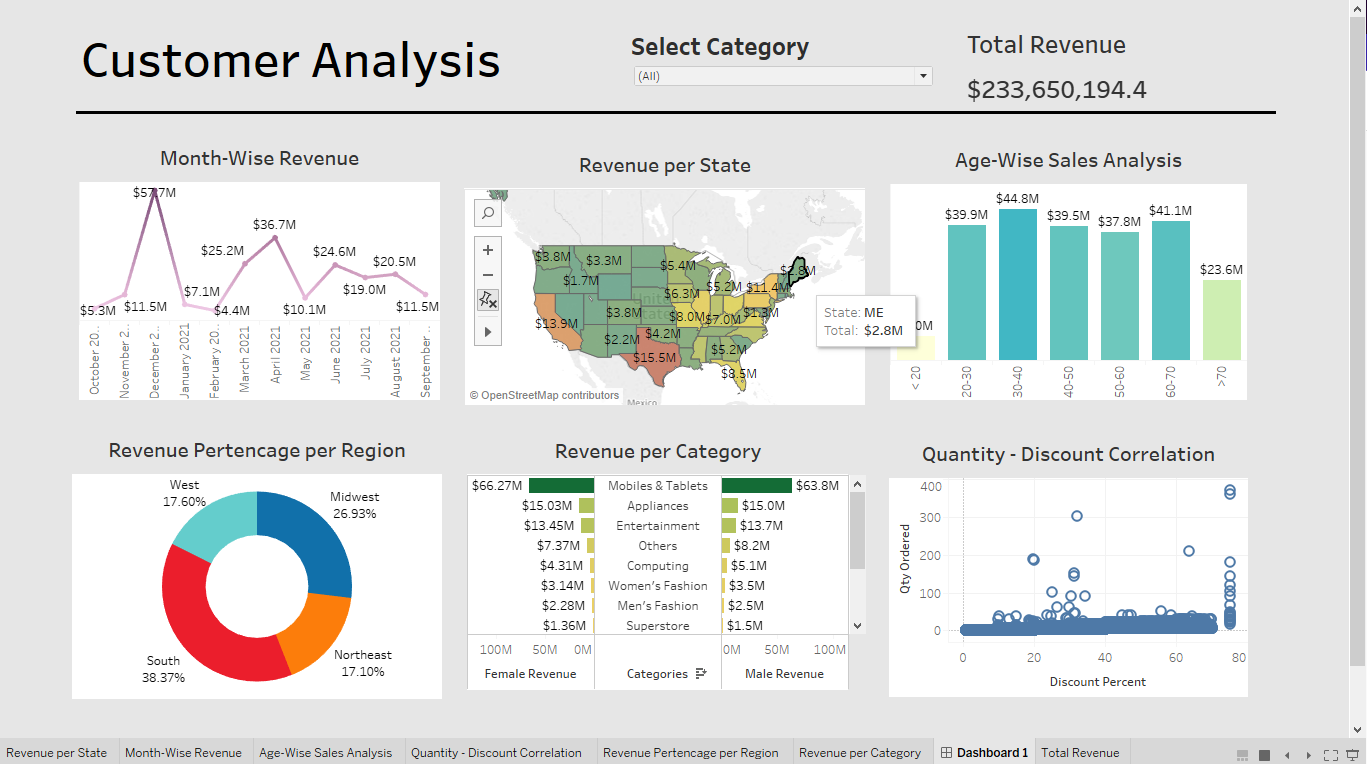

Layout of this report page (visuals, bound fields, positions):
{"tool":"tableau","page":{"name":"Dashboard 1","canvas":[1200,800],"ordinal":0},"visuals":[{"type":"text","box":[4,20,557,75]},{"type":"worksheet","title":"Total Revenue","mark":"Automatic","box":[889,23,246,83]},{"type":"filter","title":"Revenue per Category","param":"[federated.0hiqf9a1q16y5f18m1fyc1xziid1].[none:category:nk]","box":[557,29,305,63]},{"type":"blank","box":[2,111,1200,3]},{"type":"worksheet","title":"Month-Wise Revenue","mark":"Automatic","rows":["total"],"cols":["month"],"box":[5,139,361,261]},{"type":"worksheet","title":"Age-Wise Sales Analysis","mark":"Automatic","rows":["total"],"cols":["Age (bin)"],"box":[816,141,357,259]},{"type":"worksheet","title":"Revenue per State","mark":"Automatic","box":[390,146,402,260]},{"type":"worksheet","title":"Revenue per Category","mark":"Automatic","rows":["category"],"cols":["Calculation_531987746242002945","Calculation_531987746240958464","Calculation_531987746242162690"],"box":[393,432,401,258]},{"type":"worksheet","title":"Quantity - Discount Correlation","mark":"Automatic","rows":["qty_ordered"],"cols":["Discount_Percent"],"box":[815,435,359,262]}]}

Visuals, with their boxes on the page's 1200x800 design canvas (x1, y1, x2, y2). These are canvas units, not pixel positions in the 1367x764 screenshot, which may show the page scaled, cropped or inside an application window:
text: 4,20,561,95
"Total Revenue" worksheet: 889,23,1135,106
"Revenue per Category" filter: 557,29,862,92
blank: 2,111,1202,114
"Month-Wise Revenue" worksheet: 5,139,366,400
"Age-Wise Sales Analysis" worksheet: 816,141,1173,400
"Revenue per State" worksheet: 390,146,792,406
"Revenue per Category" worksheet: 393,432,794,690
"Quantity - Discount Correlation" worksheet: 815,435,1174,697
